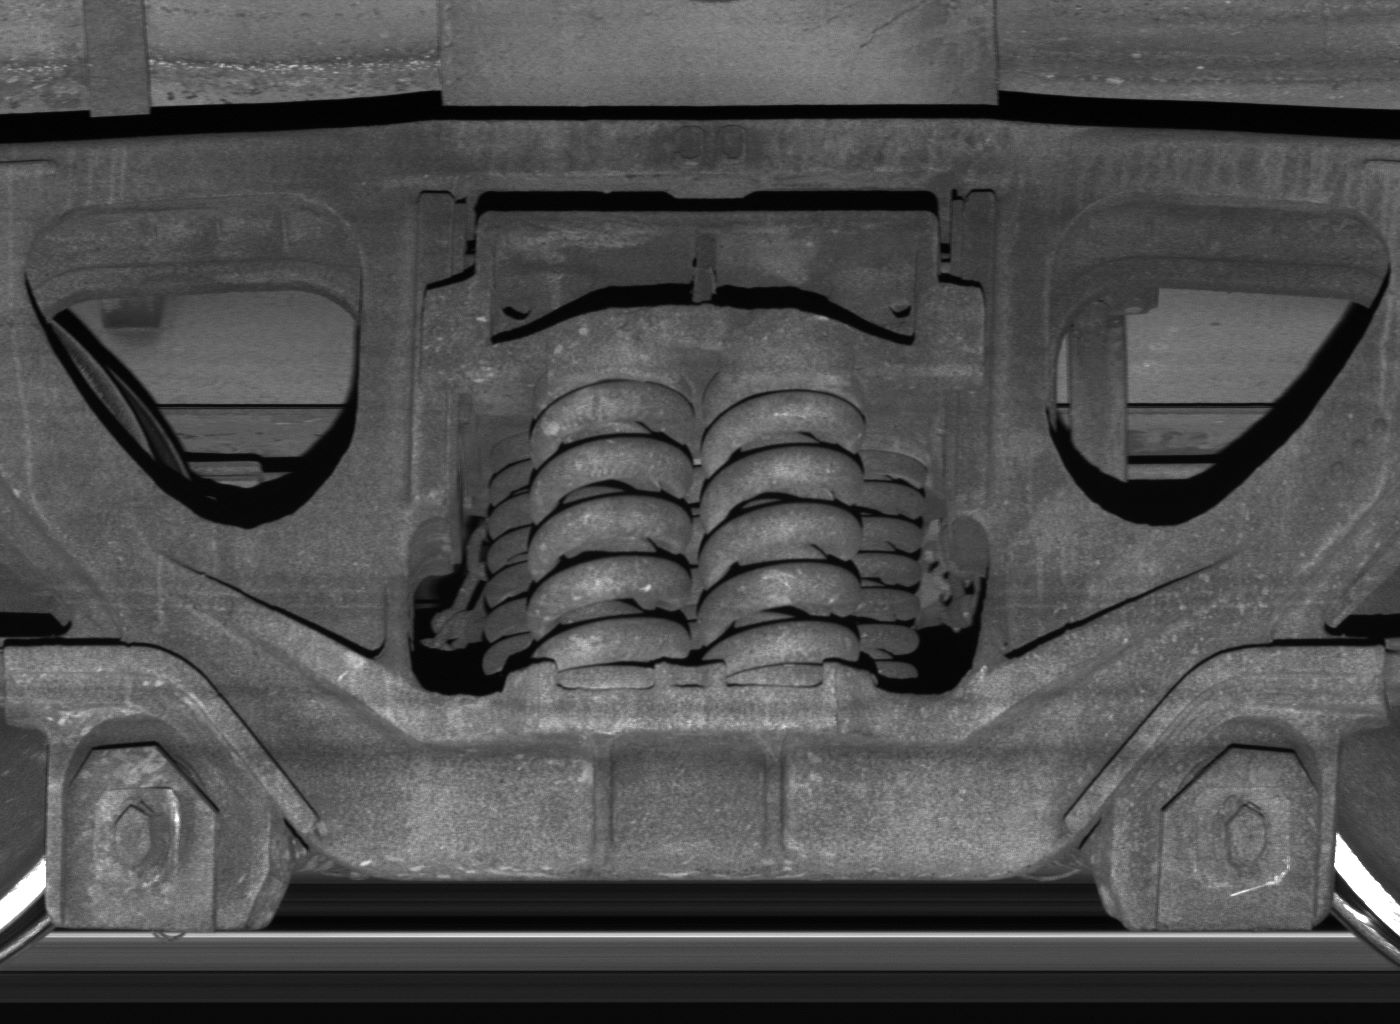normal: (1115, 717, 1337, 938), (43, 717, 268, 932)
